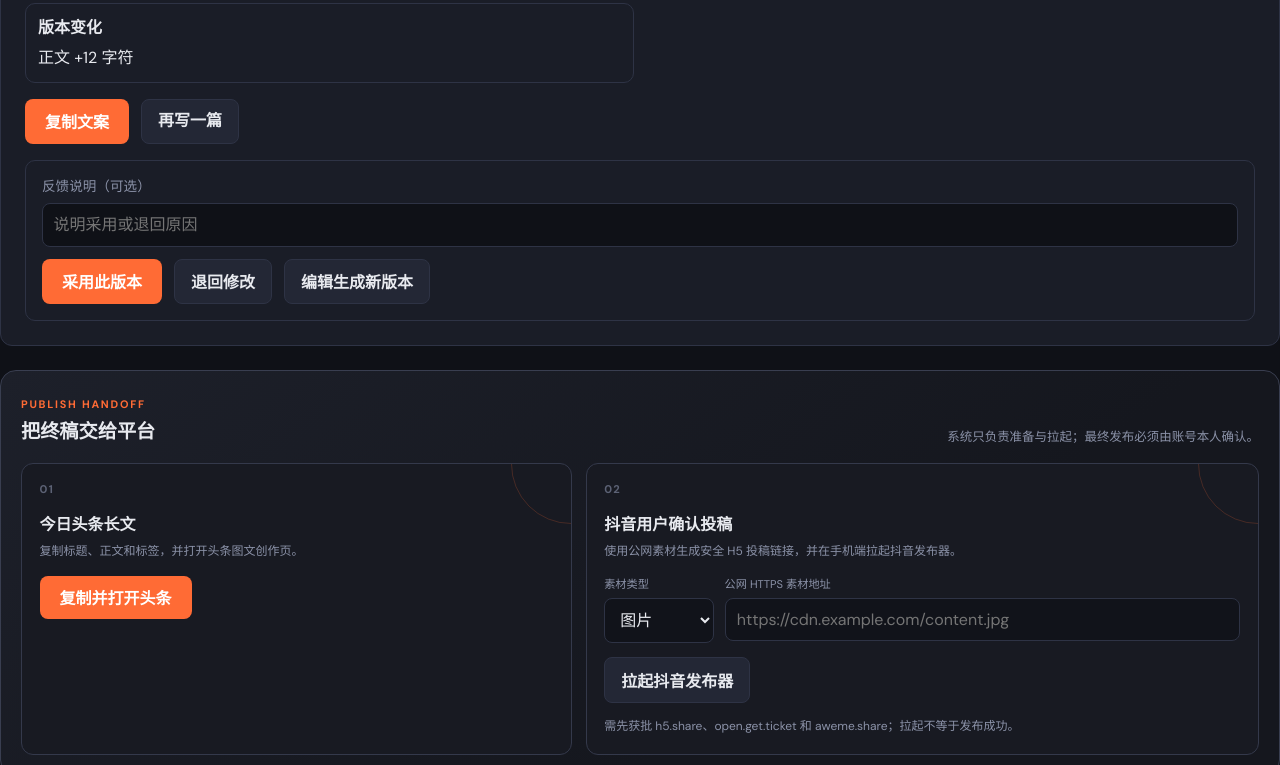
it: TaskDetail assisted publishing › offers a safe manual link when the popup is blocked
The image size is (1280, 765).
(page scrolled)
Click the button "复制并打开头条" at (116, 597), box [40,576,192,619]
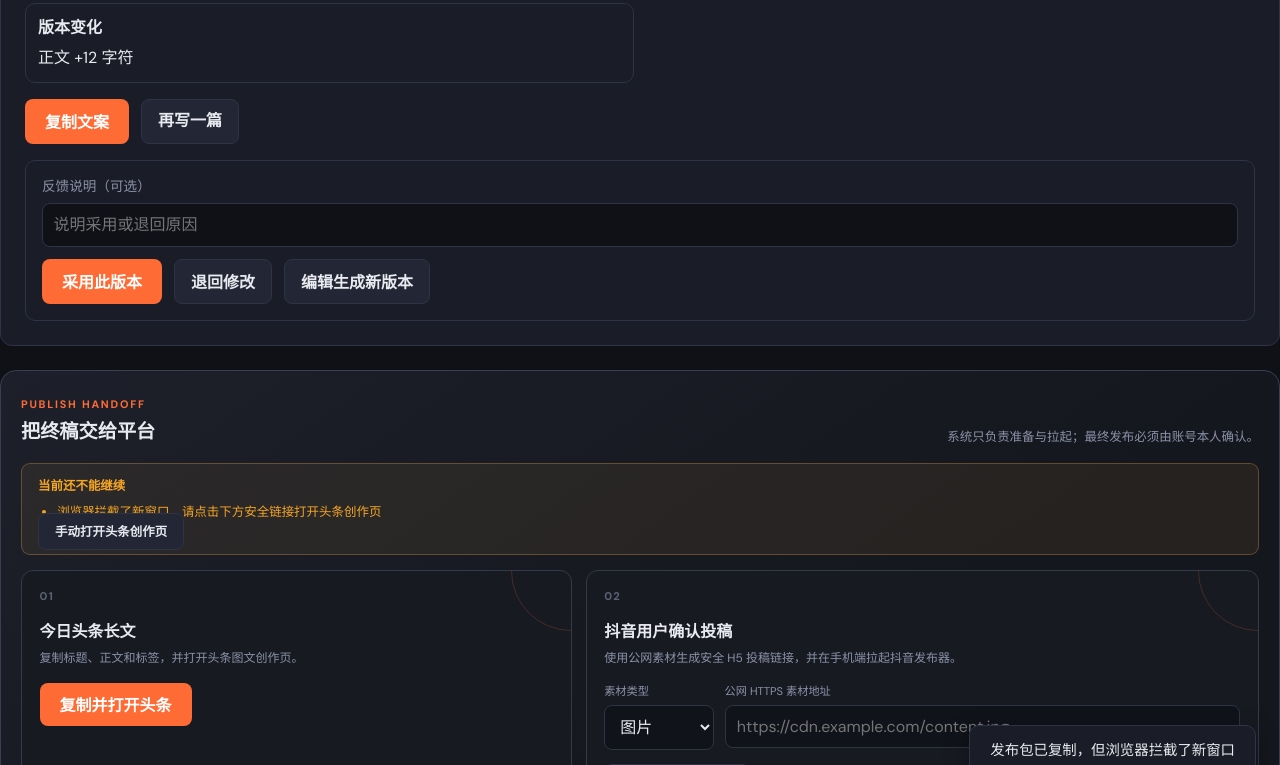
Result: the list item "浏览器拦截了新窗口，请点击下方安全链接打开头条创作页" is shown at [57,504,381,520]
